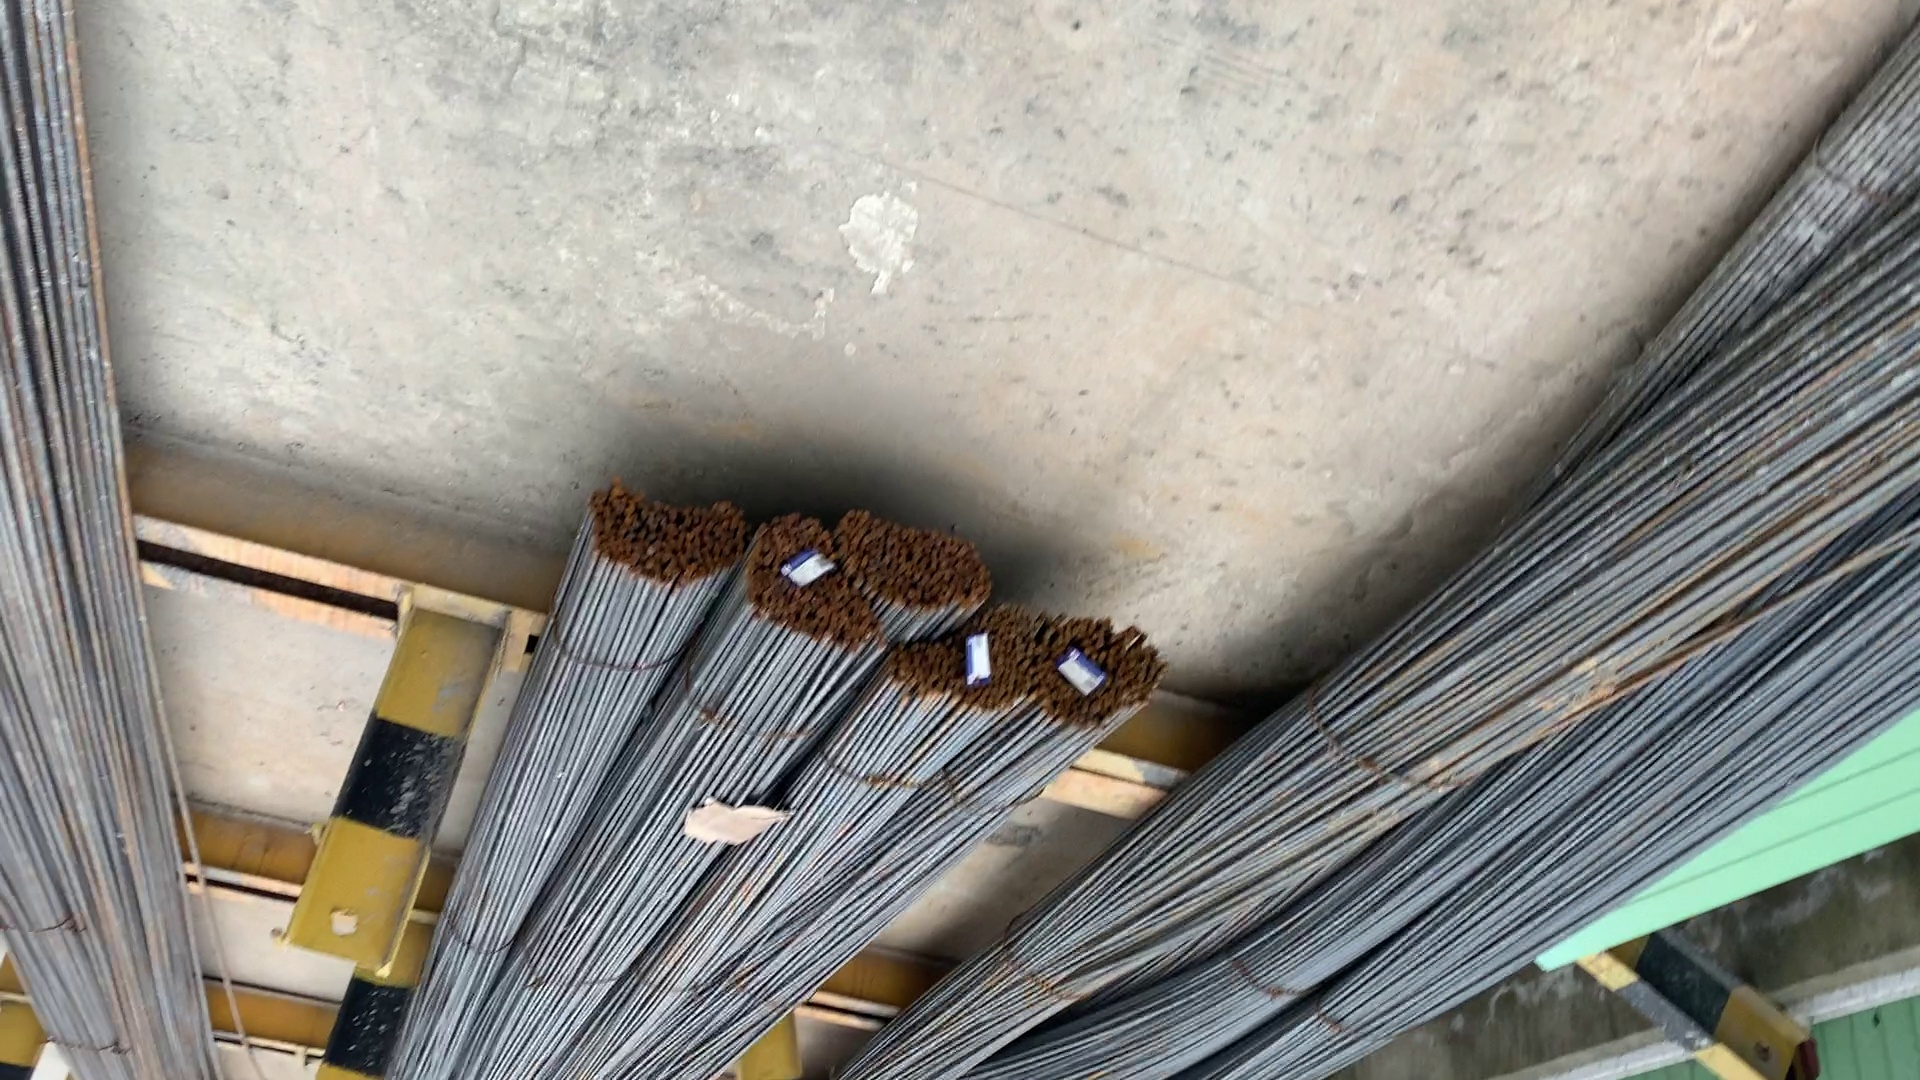rebar: (746, 520, 880, 650), (580, 484, 738, 587), (847, 506, 989, 611), (1030, 626, 1160, 723), (887, 618, 1023, 709)
